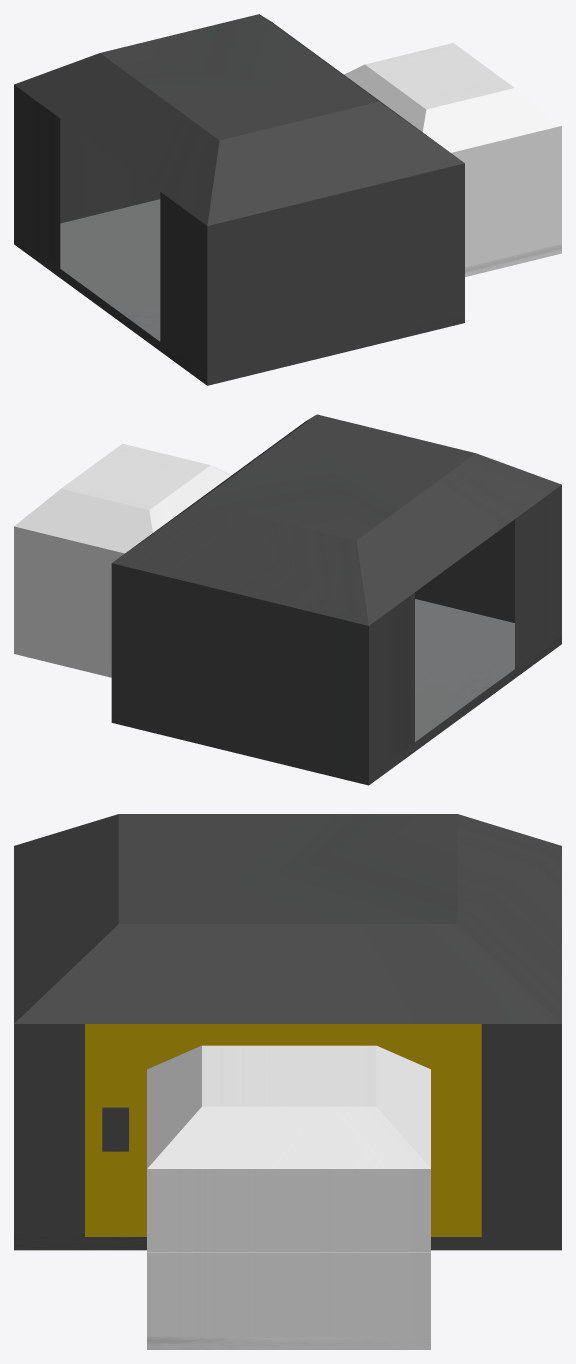
The model's file is garbage_fixedversionWITHANIMATION.fbx.
The picture shows the model from 3 angles, top to bottom: view 1: azimuth 30°, elevation 25°; view 2: azimuth 150°, elevation 25°; view 3: azimuth 270°, elevation 25°; orthographic projection. The views are drawn at different scales.
Parts seen in each view (by area): view 1: garbageroom; view 2: garbageroom; view 3: garbageroom, garbageroom.001, garbageroom.002, buttonmainbody.
Boxes of the visible parts, left/top/right/bottom form: garbageroom: left=14, top=14, right=561, bottom=385; garbageroom: left=14, top=414, right=561, bottom=785; garbageroom: left=14, top=814, right=561, bottom=1349; garbageroom.001: left=147, top=1253, right=430, bottom=1336; garbageroom.002: left=147, top=1169, right=430, bottom=1252; buttonmainbody: left=102, top=1107, right=128, bottom=1151.
Bounding box in the file's own units: 1589 × 780 × 1325.
